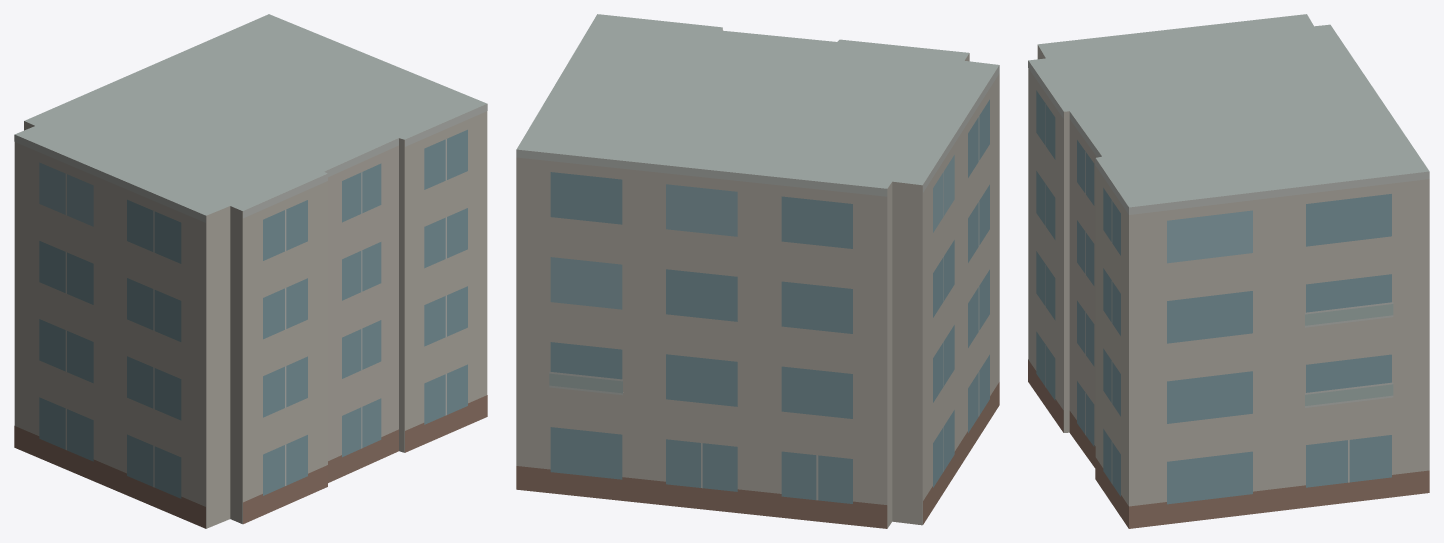
The model's file is survey-upis-32687771.glb.
The picture shows the model from 3 angles, left to right: view 1: azimuth 30°, elevation 25°; view 2: azimuth 150°, elevation 25°; view 3: azimuth 270°, elevation 25°; orthographic projection. The views are drawn at different scales.
Parts seen in each view (by area): view 1: survey-upis-32687771.tmp; view 2: survey-upis-32687771.tmp; view 3: survey-upis-32687771.tmp.
Part boxes in pixels (box(x1,y1,x2,y2)): survey-upis-32687771.tmp: box(14, 14, 487, 528); survey-upis-32687771.tmp: box(516, 14, 999, 528); survey-upis-32687771.tmp: box(1028, 14, 1429, 528).
Bounding box in the file's own units: 13.44 × 10.4 × 11.78.
